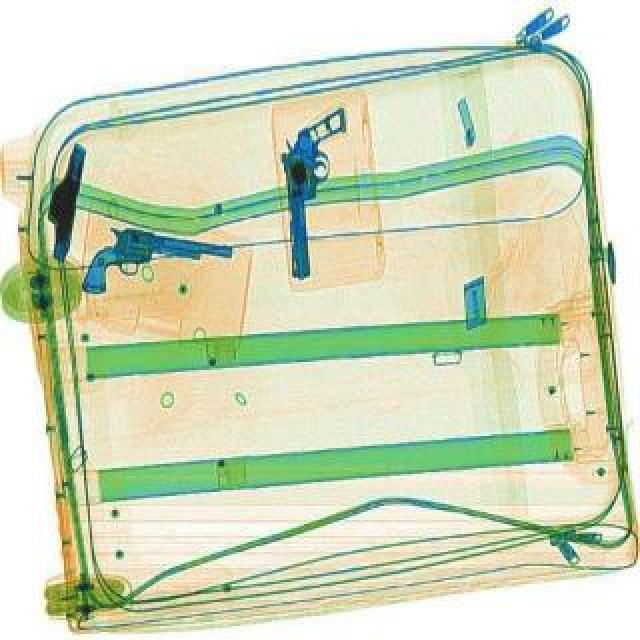gun: (268, 106, 362, 278), (76, 224, 232, 306), (38, 140, 86, 262)
